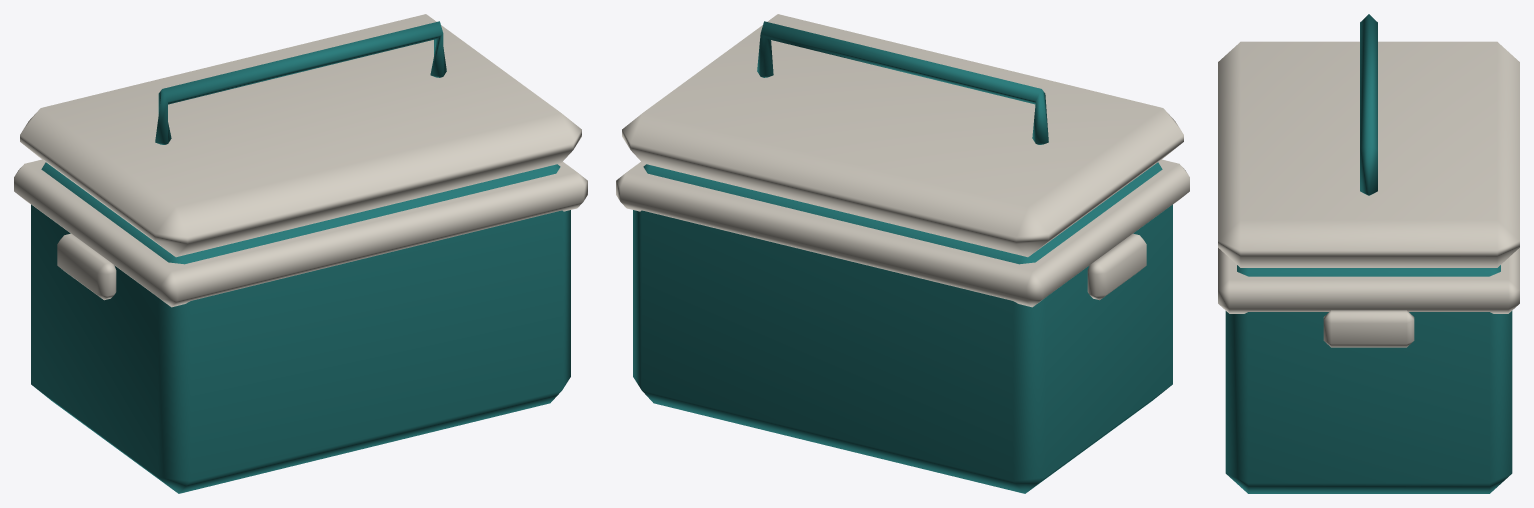
Rendered from cooler.glb.
The picture shows the model from 3 angles, left to right: view 1: azimuth 30°, elevation 25°; view 2: azimuth 150°, elevation 25°; view 3: azimuth 270°, elevation 25°; orthographic projection. The views are drawn at different scales.
Visible parts, largest first — view 1: cooler, lid; view 2: cooler, lid; view 3: lid, cooler.
Part boxes in pixels (bbox=[...]): cooler: bbox=[14, 159, 587, 493]; lid: bbox=[20, 14, 581, 257]; cooler: bbox=[616, 159, 1189, 493]; lid: bbox=[622, 14, 1183, 257]; lid: bbox=[1218, 14, 1519, 267]; cooler: bbox=[1218, 248, 1519, 493].
Bounding box in the file's own units: 0.65 × 0.4819 × 0.4.
